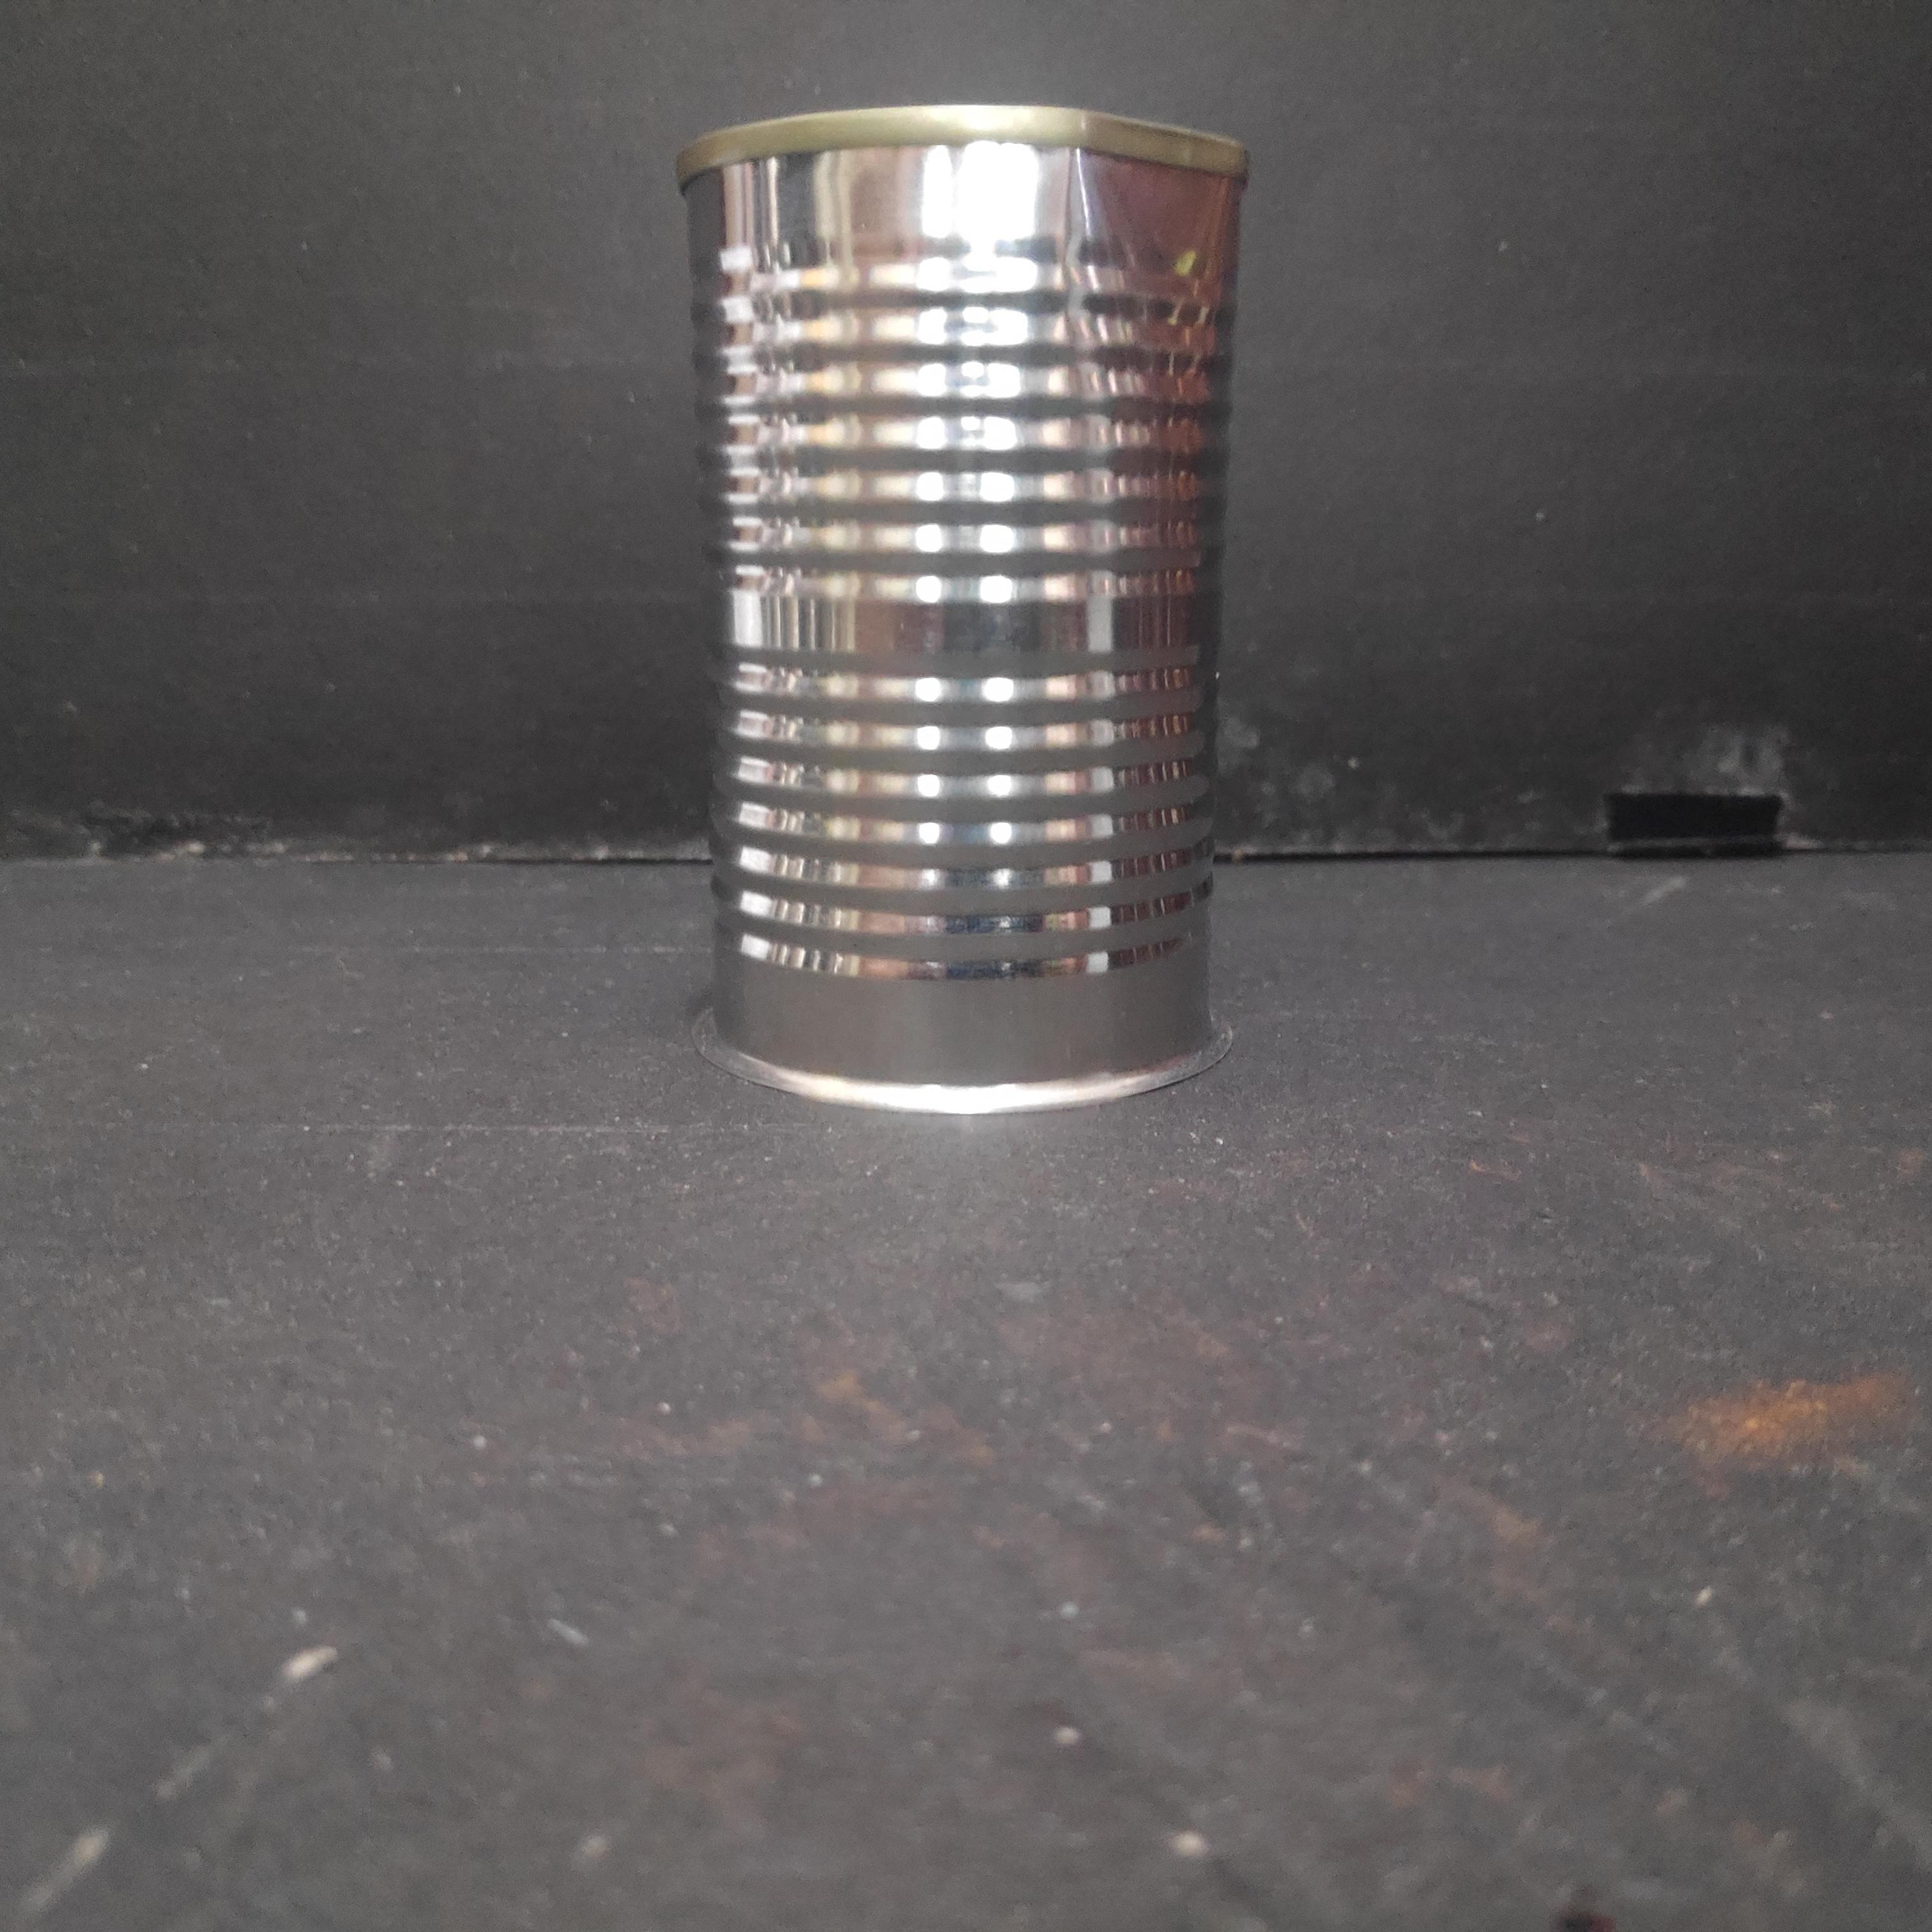Minor Defect: (665, 94, 1265, 1132)
